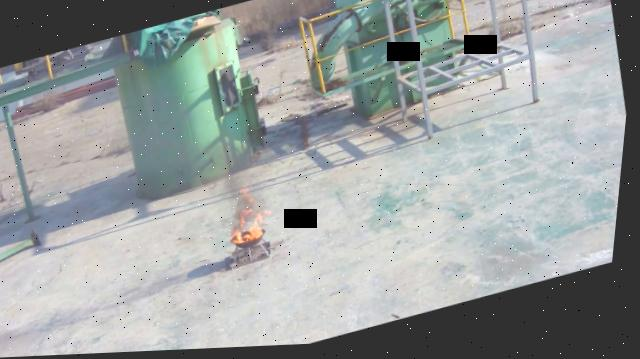fire: (224, 182, 284, 249)
smoke: (219, 166, 281, 240)
